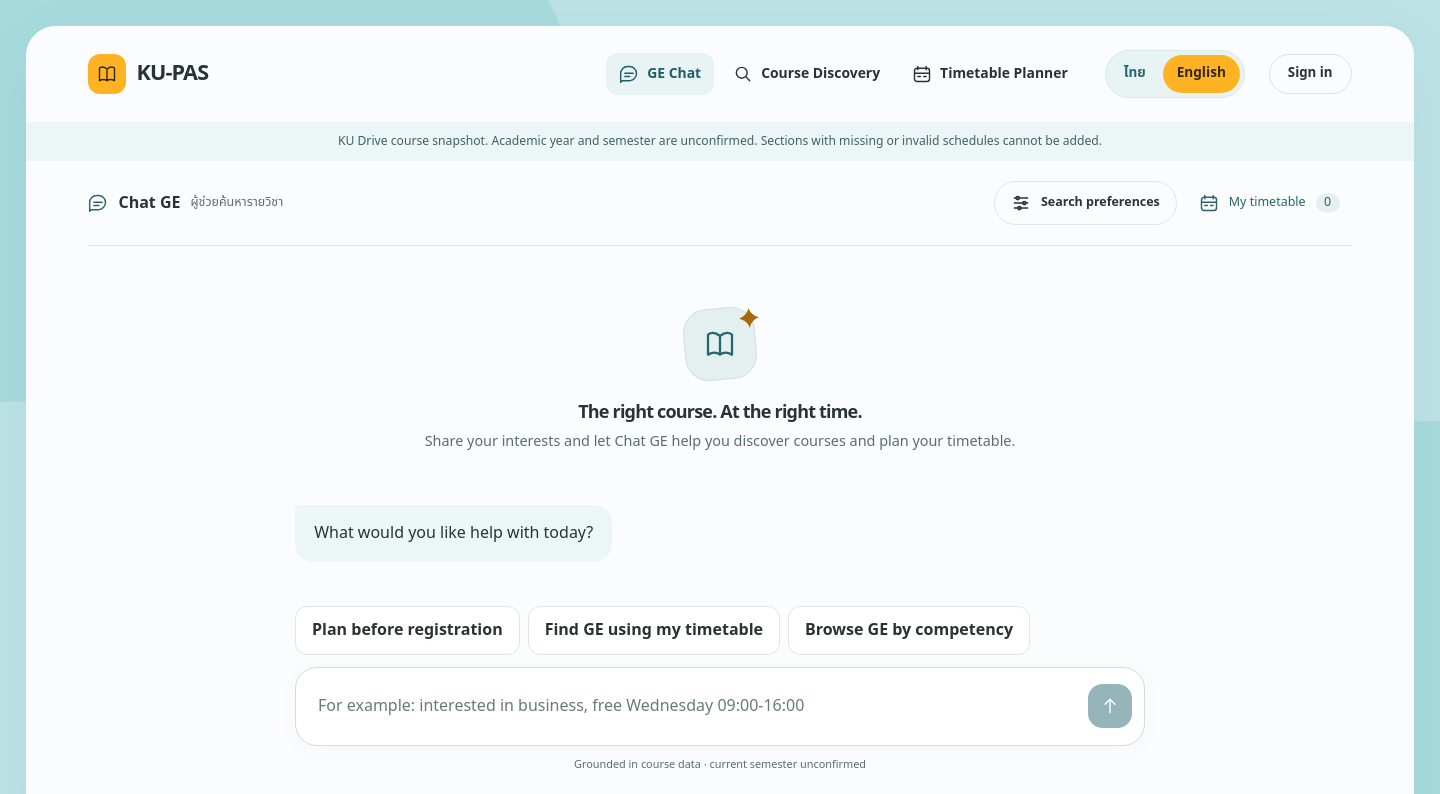
it: opens chat on the homepage and keeps course discovery accessible
Check: the element showing "What would you like help with today?" is shown, box [295,505,612,562]
Click the link "Course Discovery": (807, 73) [733,63,880,84]
(page scrolled)
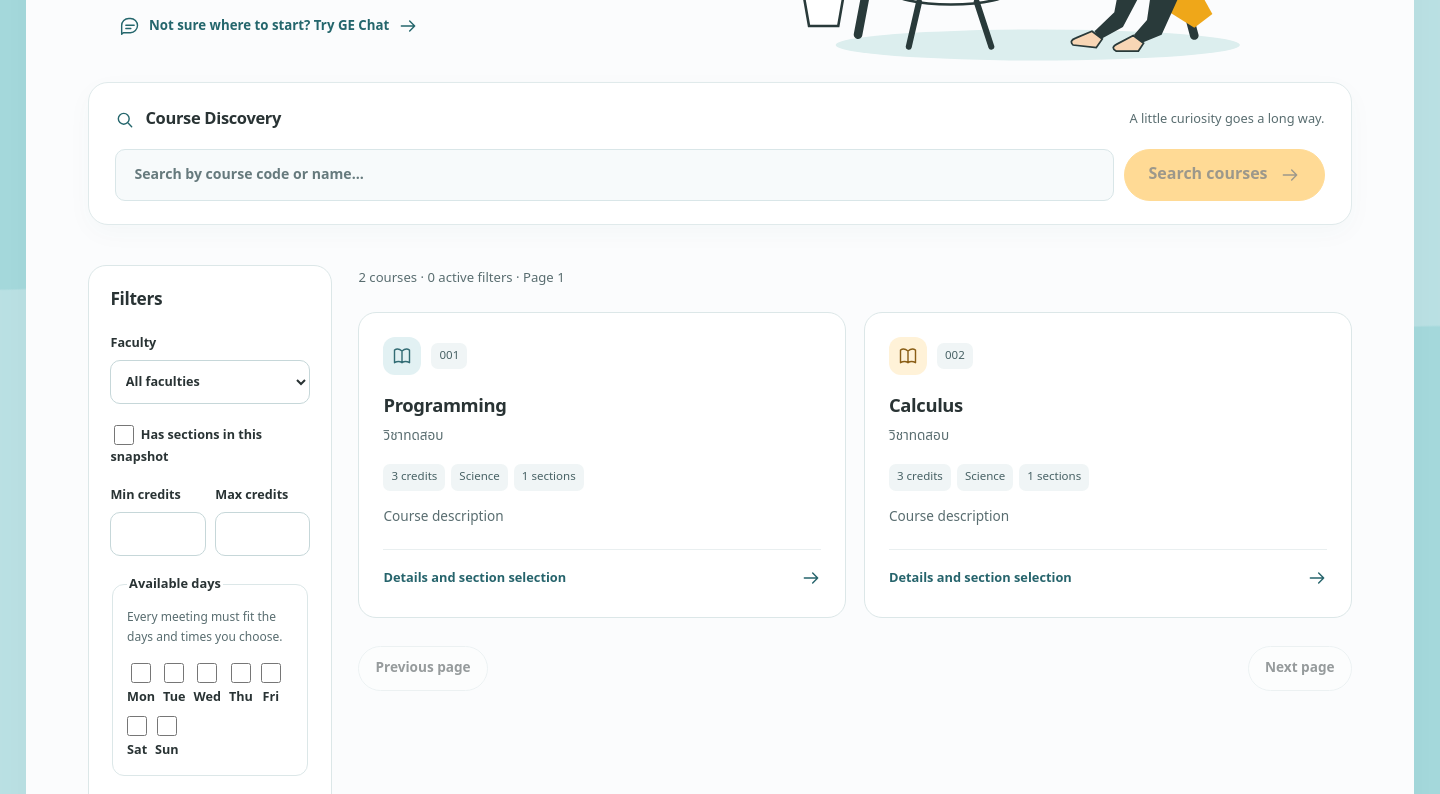
Check: the link "Programming" is shown, box [384,392,507,420]
